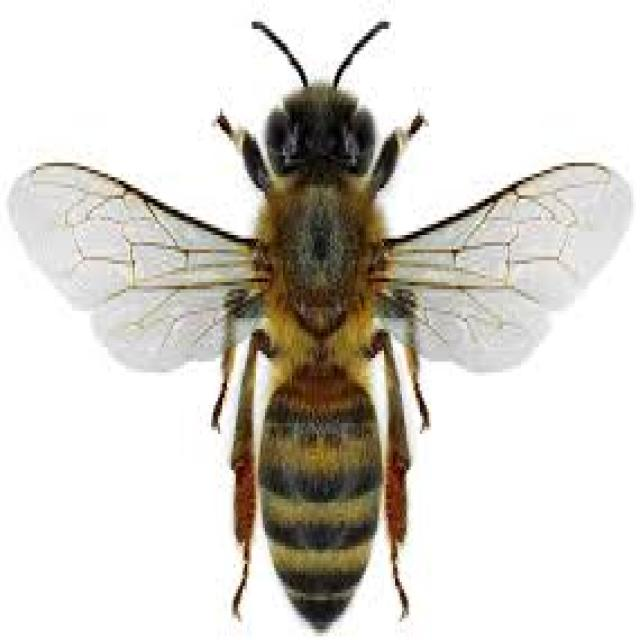Bees: (9, 16, 617, 625)
